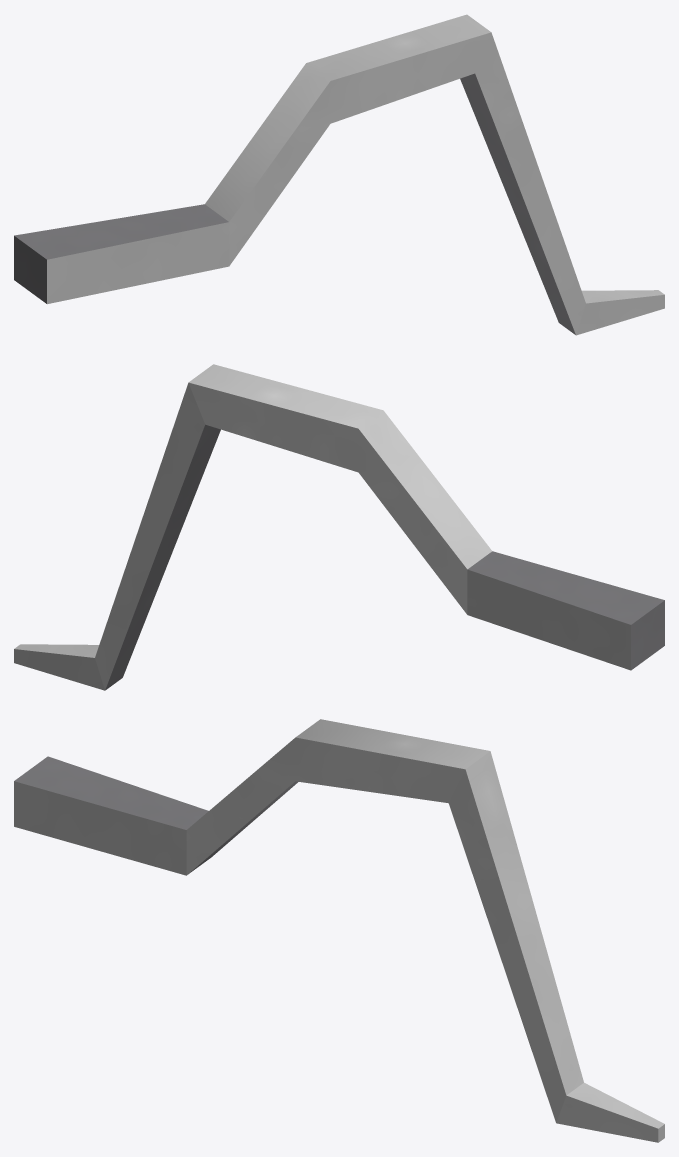
File: MOB_Scorpion_Leg.obj
3 views of the same model, one above another, from view 1: azimuth 30°, elevation 25°; view 2: azimuth 150°, elevation 25°; view 3: azimuth 330°, elevation 25° (orthographic). The views are drawn at different scales.
Parts seen in each view (by area): view 1: MOB_Scorpion_Leg:Leg; view 2: MOB_Scorpion_Leg:Leg; view 3: MOB_Scorpion_Leg:Leg.
Part boxes in pixels (x1,y1,x2,y2): MOB_Scorpion_Leg:Leg: (14, 14, 664, 335); MOB_Scorpion_Leg:Leg: (14, 364, 664, 690); MOB_Scorpion_Leg:Leg: (14, 719, 664, 1142).
Size of the model in its own units: 0.2985 by 0.149 by 0.0332.
1 material, 1 textured.
